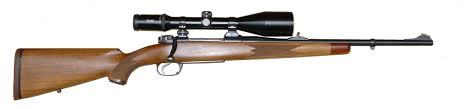gun: (11, 5, 434, 101)
